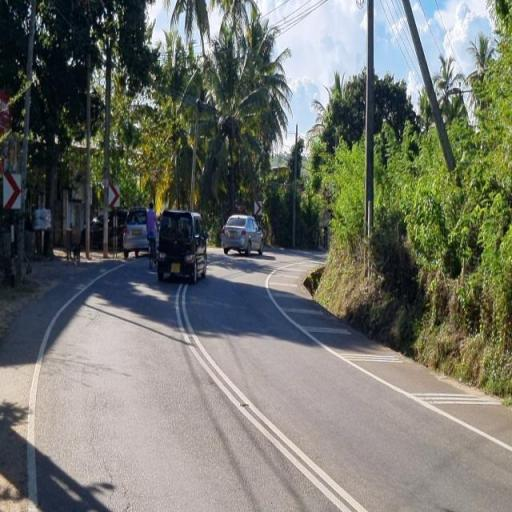double_white_line: (175, 277, 368, 510), (264, 0, 329, 36)
